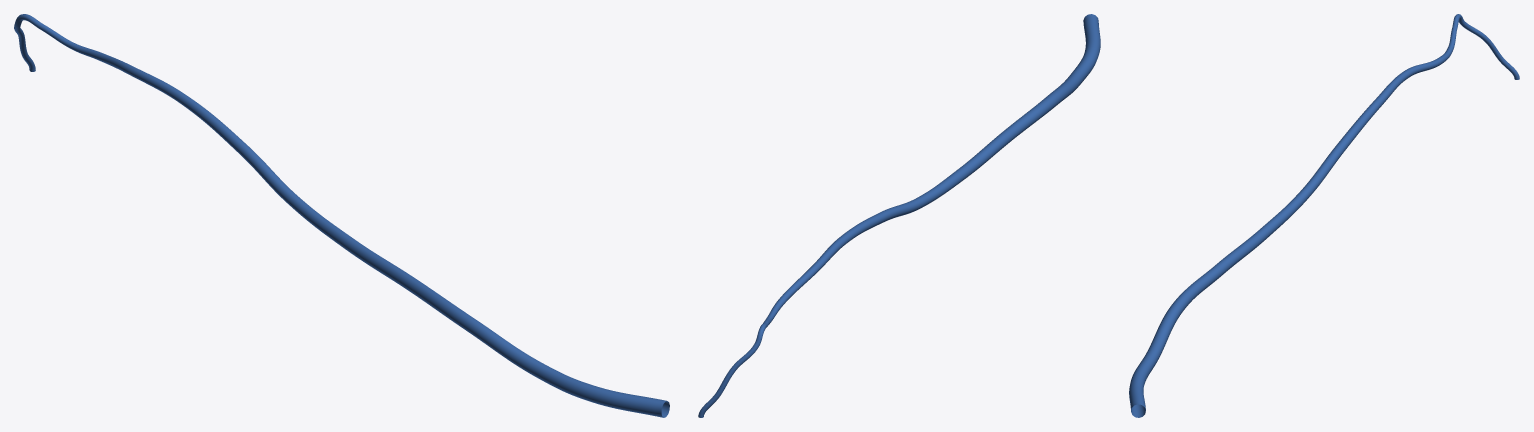
The picture shows the model from 3 angles, left to right: view 1: azimuth 30°, elevation 25°; view 2: azimuth 150°, elevation 25°; view 3: azimuth 330°, elevation 25°; orthographic projection. The views are drawn at different scales.
Visible parts, largest first — view 1: 左侧胫后静脉; view 2: 左侧胫后静脉; view 3: 左侧胫后静脉.
Part boxes in pixels (bbox=[...]): 左侧胫后静脉: bbox=[14, 14, 669, 417]; 左侧胫后静脉: bbox=[698, 14, 1100, 417]; 左侧胫后静脉: bbox=[1129, 14, 1519, 417].
Size of the model in its own units: 0.0781 by 0.0475 by 0.5032.
